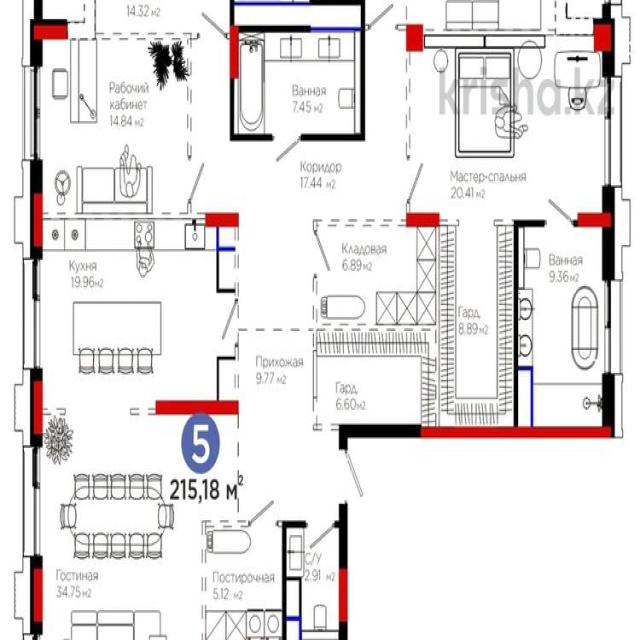bathroom: (520, 228, 610, 431), (234, 25, 362, 137), (206, 517, 286, 638), (288, 518, 342, 636)
hallway: (240, 328, 312, 514), (237, 145, 405, 217)
kitchen: (42, 222, 235, 407)
living_room: (413, 2, 608, 216), (42, 410, 202, 640), (43, 31, 230, 211)
other: (442, 220, 514, 424), (316, 222, 436, 327), (318, 329, 439, 422)
